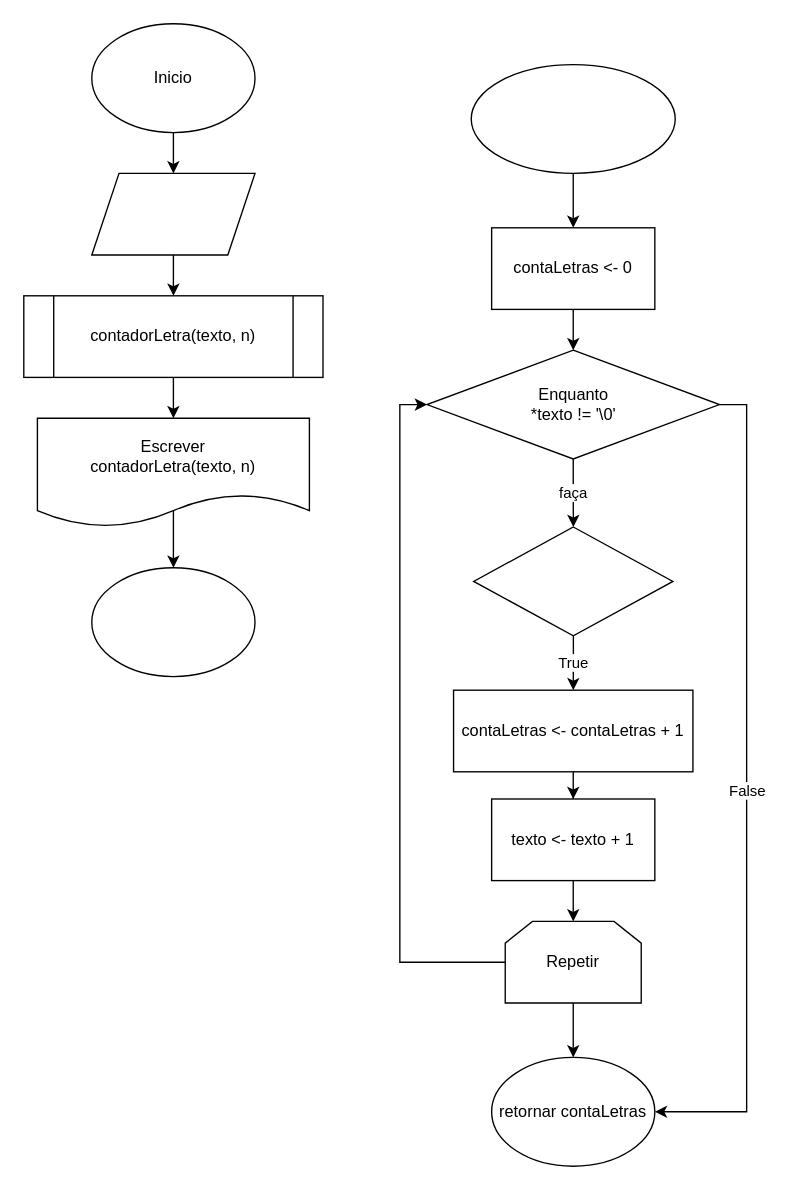
Some shapes in this 789 by 1190 pixel diagram are drawn without their labels. Here are the shapes that lost their labels. From the top down, the centre of each, then its label:
point (572, 118): contadorLetra(*texto, n)
point (172, 213): Ler (texto) Ler(n)
point (572, 581): Se *texto = n
point (172, 621): Fim
